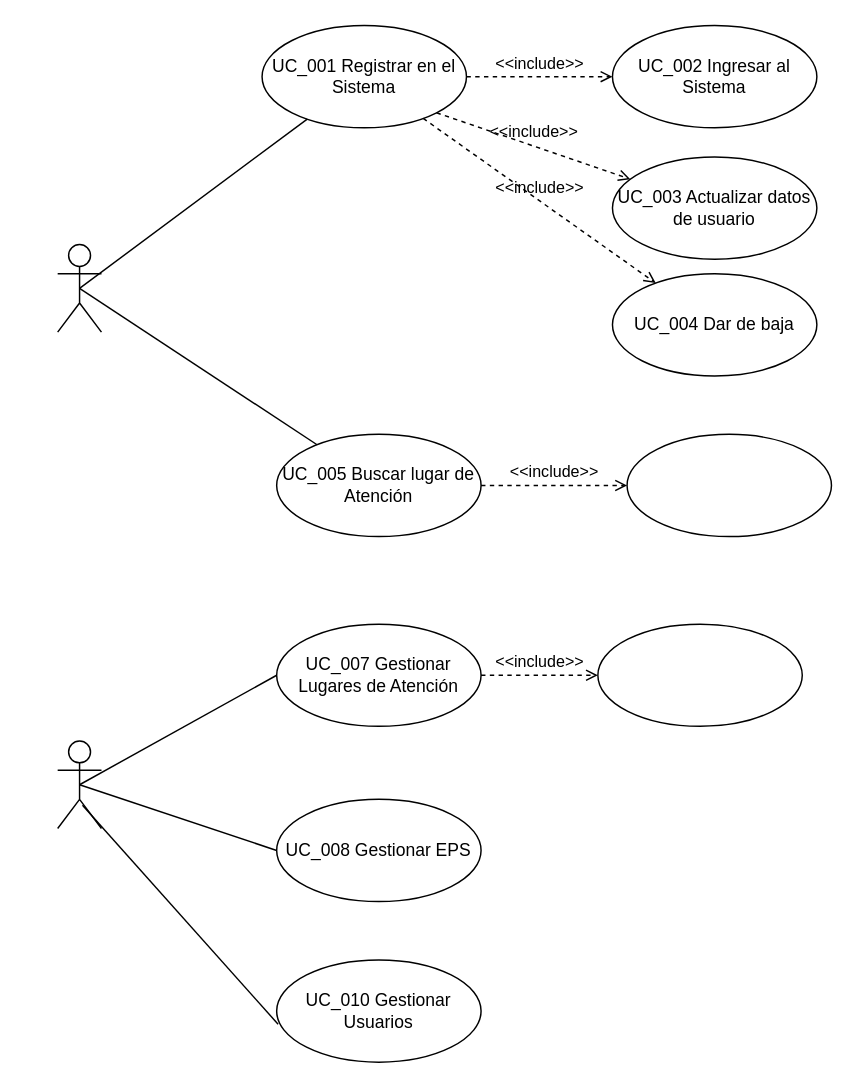
Some shapes in this 857 by 1088 pixel diagram are drawn without their labels. Each missing label, with the centre of its shape:
"Administrador" goes at point (78, 784).
"UC_006 Consultar Disponibilidad de Lugar de Atención" goes at point (728, 485).
"UC_009 Gestionar Especialidad" goes at point (699, 674).
"Usuario" goes at point (78, 287).
